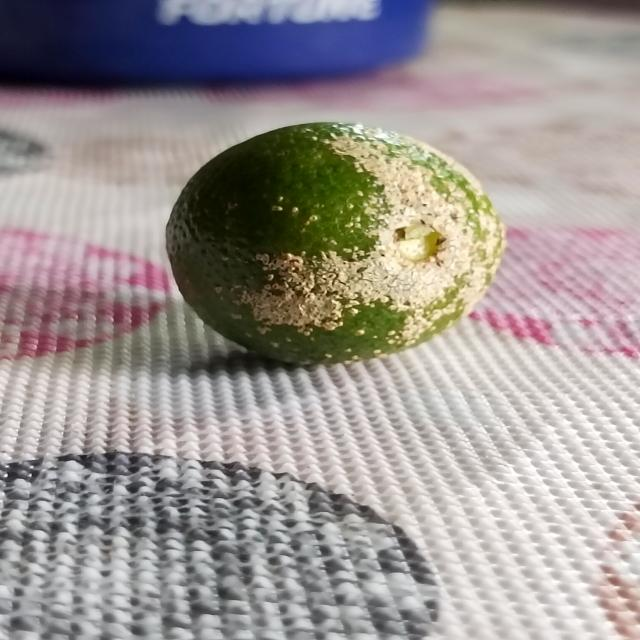scab: (156, 104, 511, 368)
